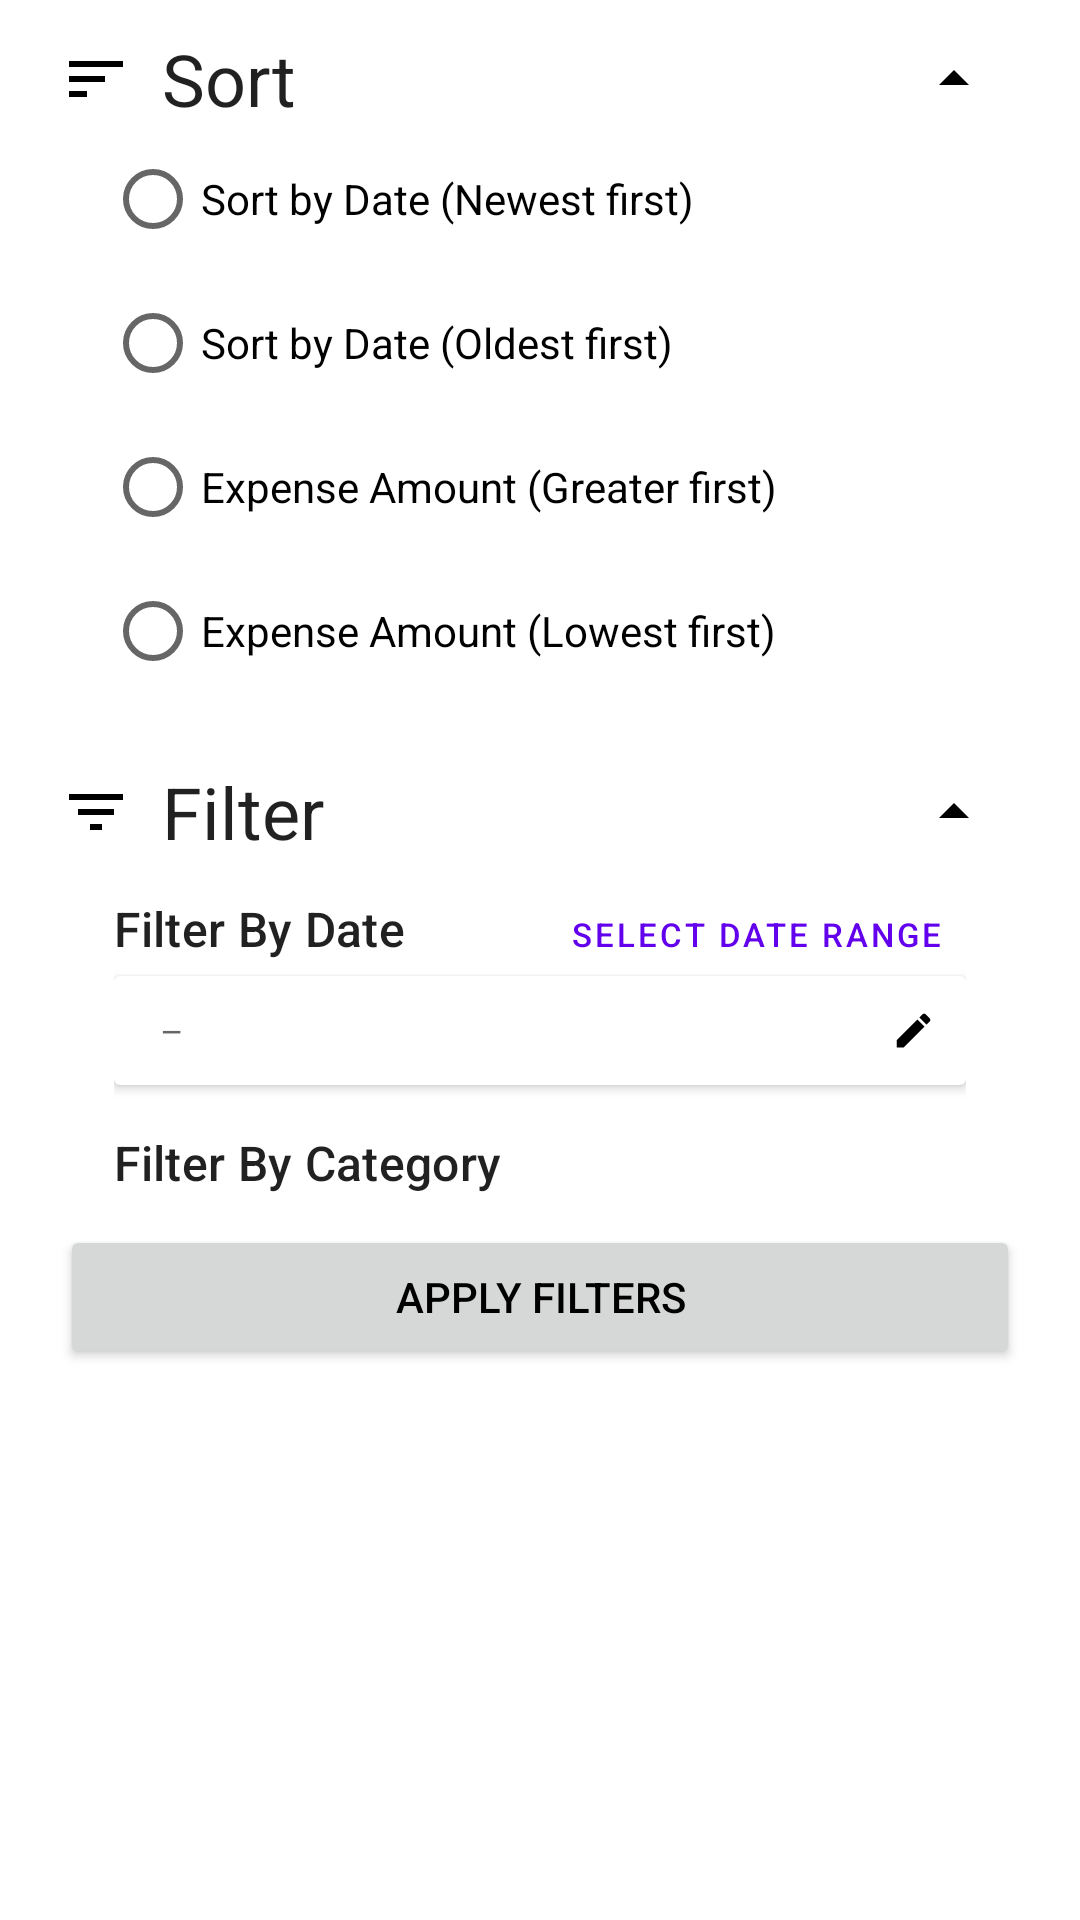

Named icons in this screenshot (1080×1920) and their bounding boxes, (x1, y1, x2, y2):
edit: (896, 1013, 931, 1048)
